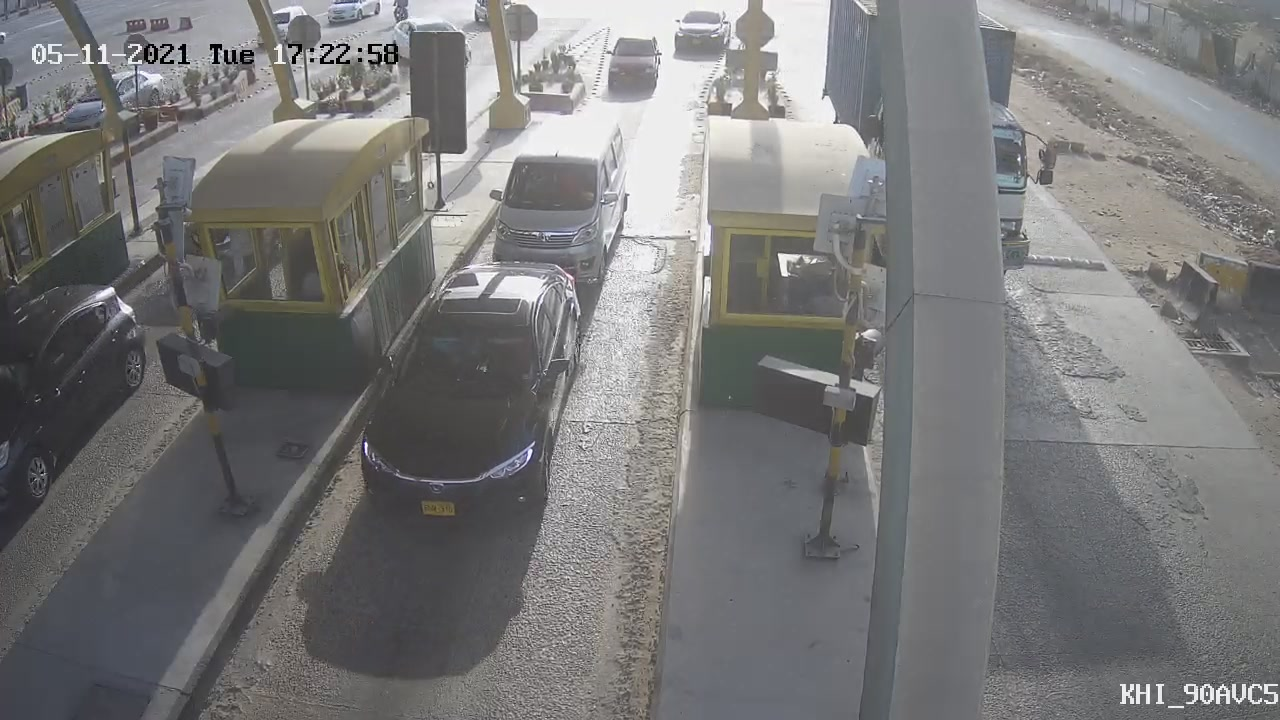F1: (348, 258, 592, 529), (464, 108, 636, 288)
